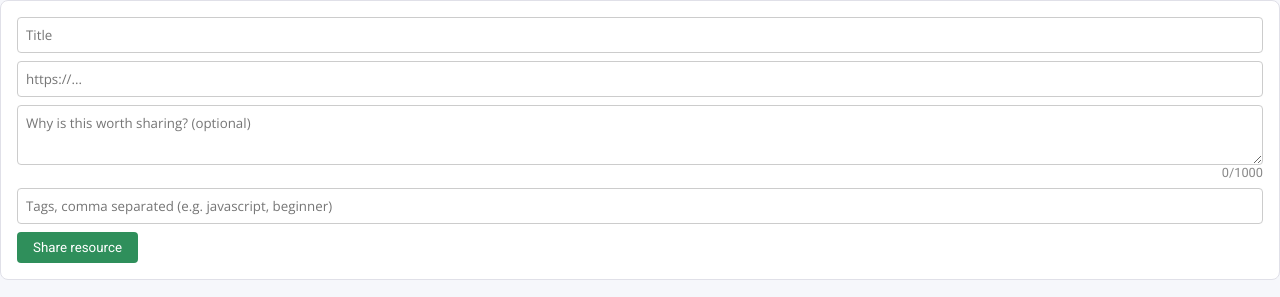
ResourceForm tag autocomplete › keeps already-typed tags when selecting a suggestion
Step 1. Type "react, test" into the field with placeholder "Tags, comma separated (e.g. javascript, beginner)" → (640, 206), box [17,188,1263,224]
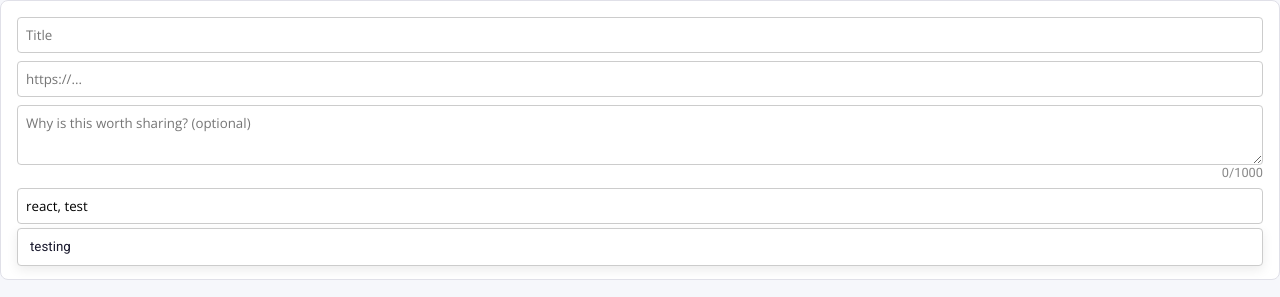
Step 2. Click the option "testing" → (50, 247), box [22,233,1258,261]
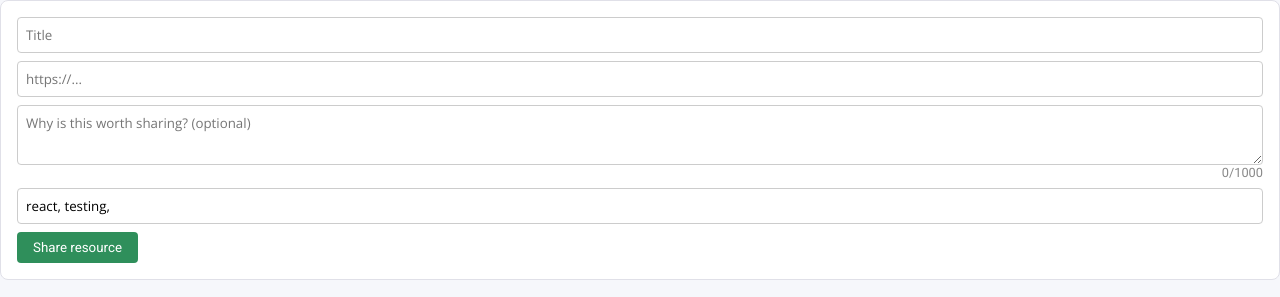
Check: the field with placeholder "Tags, comma separated (e.g. javascript, beginner)" holds "react, testing, ", box [17,188,1263,224]
